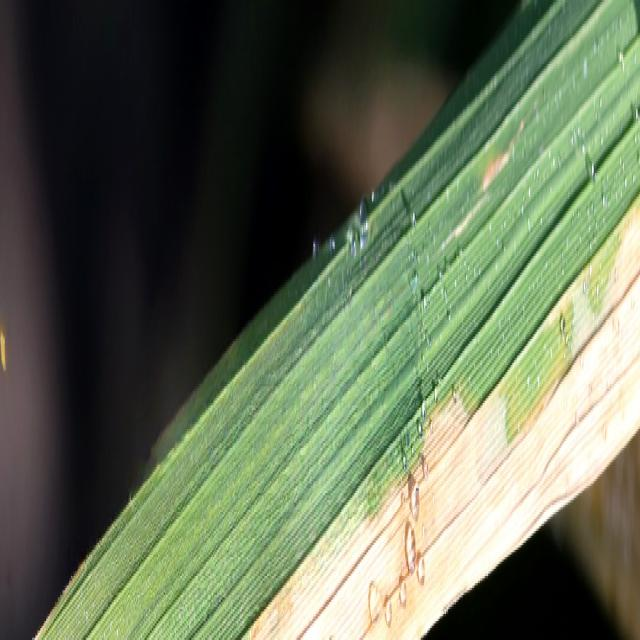BLB: (246, 196, 639, 640)
